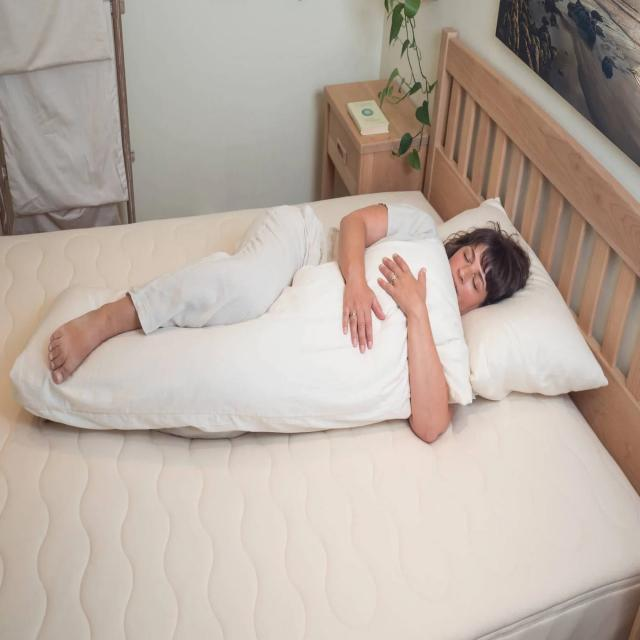people: (45, 181, 548, 451)
